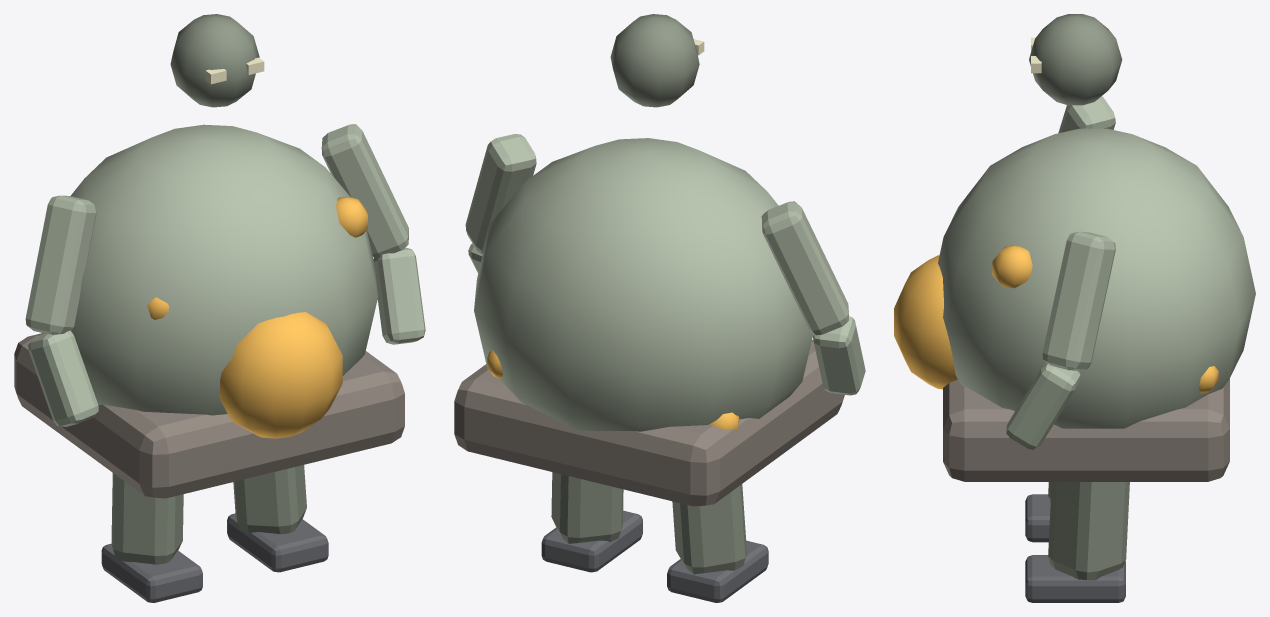
File: enemy_bloated.fbx
The picture shows the model from 3 angles, left to right: view 1: azimuth 30°, elevation 25°; view 2: azimuth 150°, elevation 25°; view 3: azimuth 270°, elevation 25°; orthographic projection.
Visible parts, largest first — view 1: enemy_bloated, ArmR, ArmL, LegR.004, LegL.004, Head; view 2: enemy_bloated, ArmR, LegR.004, LegL.004, Head, ArmL; view 3: enemy_bloated, LegL.004, ArmL, Head, ArmR, LegR.004.
Boxes of the visible parts, x1,y1,x2,y2 form: enemy_bloated: (14,124,404,498); ArmR: (25,195,98,426); ArmL: (321,124,425,344); LegR.004: (101,473,202,602); LegL.004: (227,465,328,572); Head: (170,14,264,107); enemy_bloated: (454,138,844,506); ArmR: (761,201,865,395); LegR.004: (667,484,768,602); LegL.004: (541,472,642,572); Head: (610,14,704,107); ArmL: (465,134,536,273); enemy_bloated: (894,128,1255,481); LegL.004: (1025,482,1129,602); ArmL: (1006,231,1115,449); Head: (1029,14,1122,105); ArmR: (1058,96,1115,133); LegR.004: (1025,482,1051,542).
Bounding box in the file's own units: 1.21 × 1.67 × 1.01.
